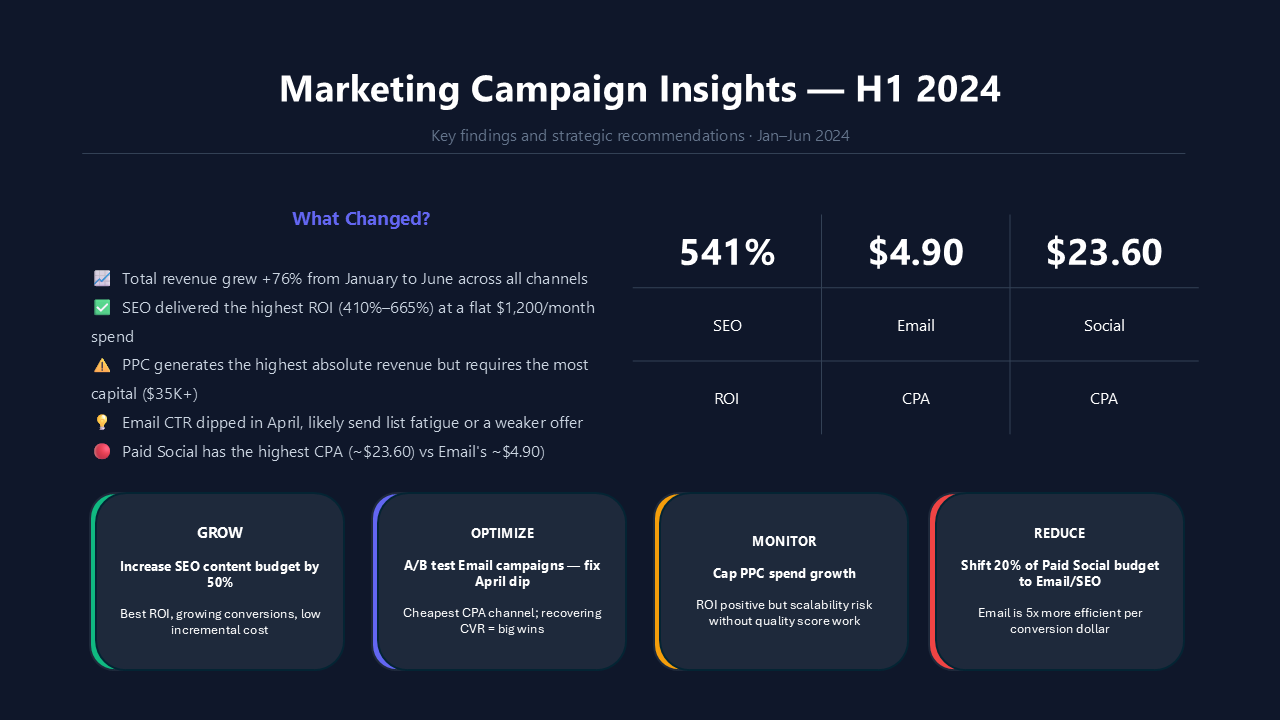

Layout of this report page (visuals, bound fields, positions):
{"tool":"powerbi","page":{"name":"Insights","canvas":[1280,720],"ordinal":3},"visuals":[{"type":"image","box":[0,0,1279.7,720],"z":0}]}

Visuals, with their boxes in screenshot pixels (x1, y1, x2, y2), scaled from the page's 1280x720 canvas onto the 1280x720 screenshot:
image: x1=0 y1=0 x2=1279 y2=719
